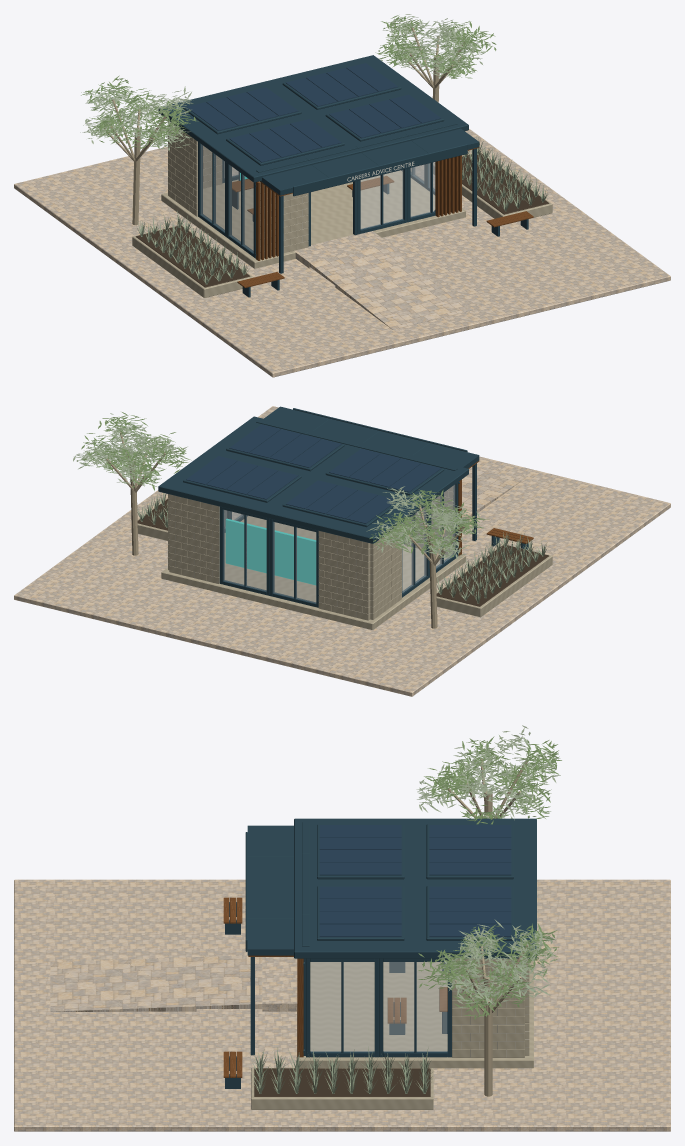
File: careers.glb
3 views of the same model, one above another, from view 1: azimuth 30°, elevation 25°; view 2: azimuth 150°, elevation 25°; view 3: azimuth 270°, elevation 25° (orthographic). The views are drawn at different scales.
Parts seen in each view (by area): view 1: Whole item paving.004, Roof slab.003, Foundation.003, window-2m part.037, ramp-3p2x2 part.010, ramp-3p2x2 part.009, Mulch.014, ramp-3p2x2 part.011, window-2m part.040, window-2m part.042, wall-2m part.018, Mulch.015 (+34 smaller); view 2: Whole item paving.004, Roof slab.003, Foundation.003, wall-2m part.016, wall-2m part.017, window-2m part.038, window-2m part.036, Pathways wall, Mulch.014, wall-2m part.018, Garden edge.014, window-2m part.042 (+33 smaller); view 3: Whole item paving.004, Roof slab.003, Foundation.003, window-2m part.041, window-2m part.043, wall-2m part.019, Mulch.015, ramp-3p2x2 part.010, ramp-3p2x2 part.009, ramp-3p2x2 part.011, Garden edge.015, landing part.003 (+29 smaller).
Part boxes in pixels (<box>): Whole item paving.004: <box>14,129,670,377</box>; Roof slab.003: <box>158,55,468,182</box>; Foundation.003: <box>161,170,465,268</box>; window-2m part.037: <box>357,168,407,234</box>; ramp-3p2x2 part.010: <box>335,264,443,308</box>; ramp-3p2x2 part.009: <box>364,287,472,329</box>; Mulch.014: <box>135,225,250,287</box>; ramp-3p2x2 part.011: <box>306,243,414,284</box>; window-2m part.040: <box>226,163,255,258</box>; window-2m part.042: <box>198,142,226,236</box>; wall-2m part.018: <box>168,121,197,216</box>; Mulch.015: <box>462,153,549,214</box>; Whole item paving.004: <box>14,406,670,696</box>; Roof slab.003: <box>158,416,468,543</box>; Foundation.003: <box>161,514,465,629</box>; wall-2m part.016: <box>318,531,370,620</box>; wall-2m part.017: <box>169,494,219,583</box>; window-2m part.038: <box>219,506,269,595</box>; window-2m part.036: <box>269,519,318,607</box>; Pathways wall: <box>225,518,316,585</box>; Mulch.014: <box>436,545,548,606</box>; wall-2m part.018: <box>370,526,401,619</box>; Garden edge.014: <box>436,544,552,617</box>; window-2m part.042: <box>402,503,429,597</box>; Whole item paving.004: <box>14,879,670,1131</box>; Roof slab.003: <box>294,818,536,958</box>; Foundation.003: <box>297,961,533,1068</box>; window-2m part.041: <box>306,958,378,1057</box>; window-2m part.043: <box>379,958,451,1057</box>; wall-2m part.019: <box>452,958,524,1057</box>; Mulch.015: <box>254,1068,430,1096</box>; ramp-3p2x2 part.010: <box>123,957,196,1011</box>; ramp-3p2x2 part.009: <box>50,959,123,1011</box>; ramp-3p2x2 part.011: <box>196,955,268,1008</box>; Garden edge.015: <box>251,1068,433,1109</box>; landing part.003: <box>262,957,297,1011</box>.
Size of the model in its own units: 16 by 5.13 by 18.
Materials: 14 (3 with a texture image).
